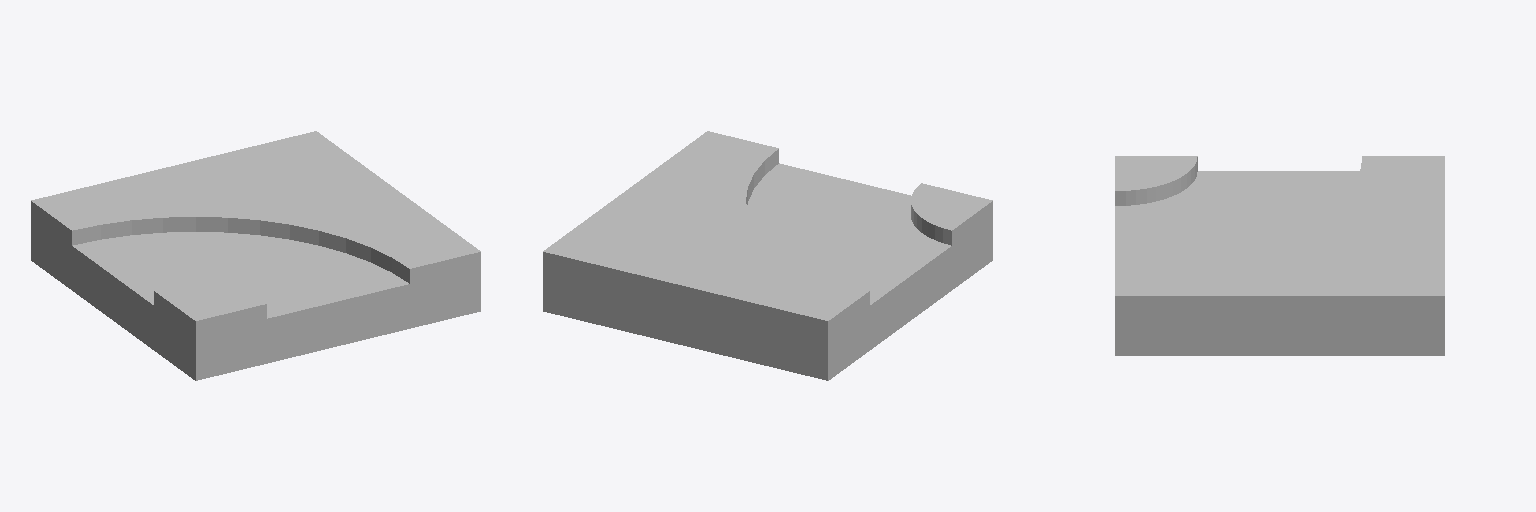
File: RiverCornerLD.obj
3 renders of one model, left to right at view 1: azimuth 30°, elevation 25°; view 2: azimuth 150°, elevation 25°; view 3: azimuth 270°, elevation 25°, orthographic.
Visible parts, largest first — view 1: RiverCornerLD; view 2: RiverCornerLD; view 3: RiverCornerLD.
Part boxes in pixels (left/top/right/bottom): RiverCornerLD: left=31, top=131, right=480, bottom=380; RiverCornerLD: left=543, top=131, right=992, bottom=380; RiverCornerLD: left=1115, top=156, right=1444, bottom=355.
Bounding box in the file's own units: 1 × 0.2 × 1.